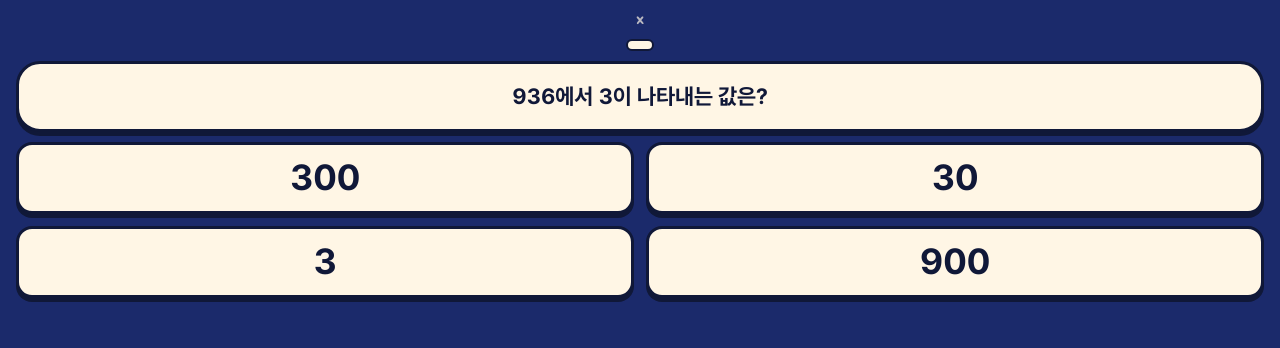
Test case: StageScreen — 스테이지 진행 › 처음 틀리면 답을 알려주지 않고 힌트만 준다
Step 1. Click the button "300" → (325, 178), box [16,142,634,214]
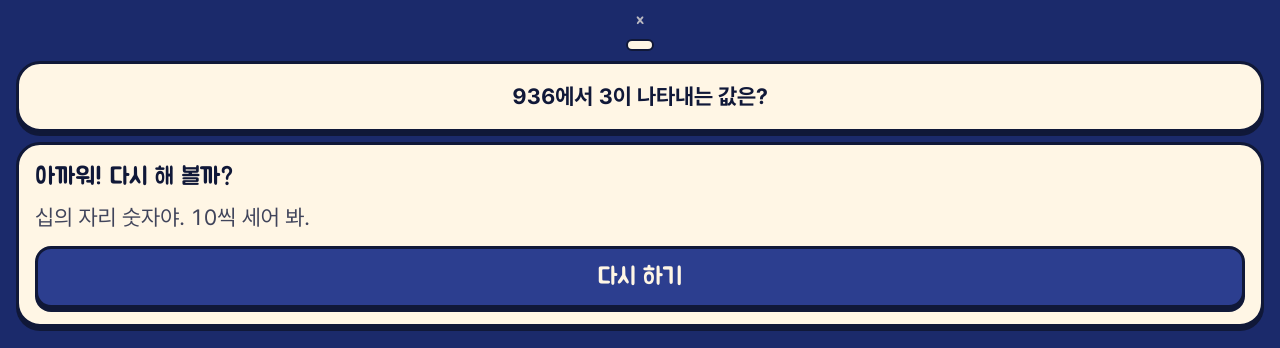
Result: the text "십의 자리 숫자야. 10씩 세어 봐." is shown at [35,204,310,230]
